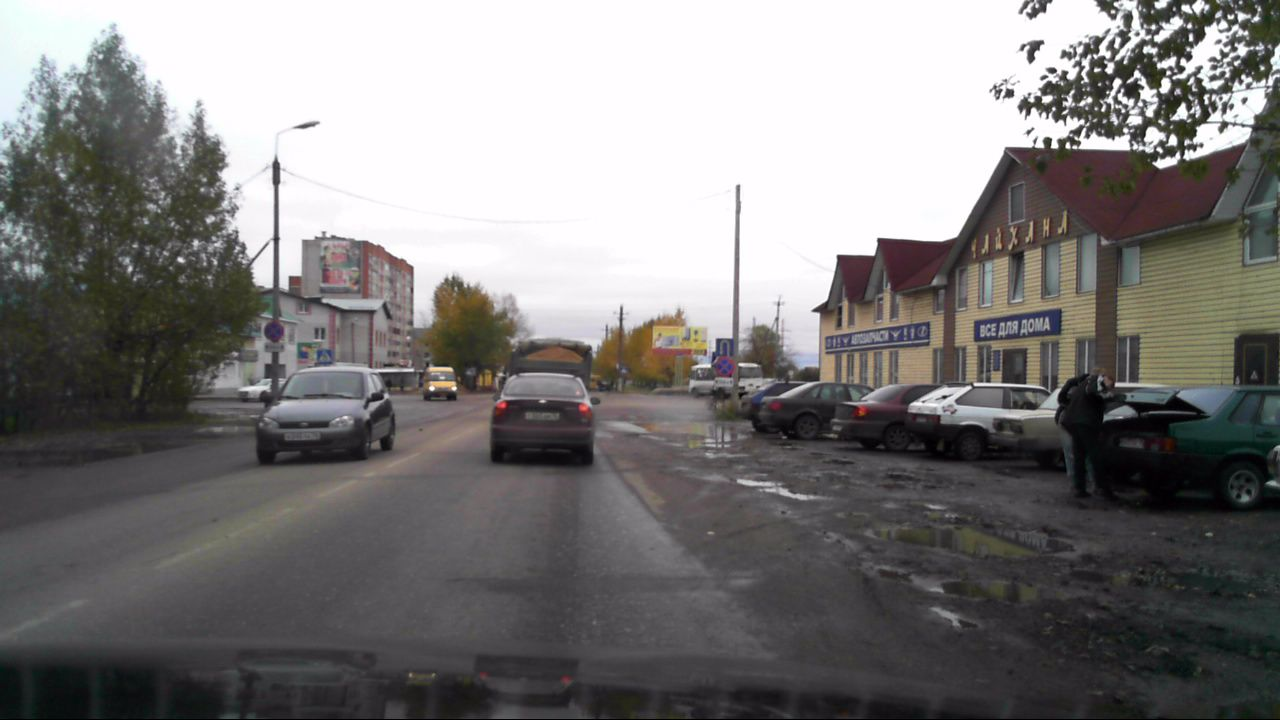No Parking: (264, 321, 283, 341)
U-turn: (716, 338, 734, 356)
